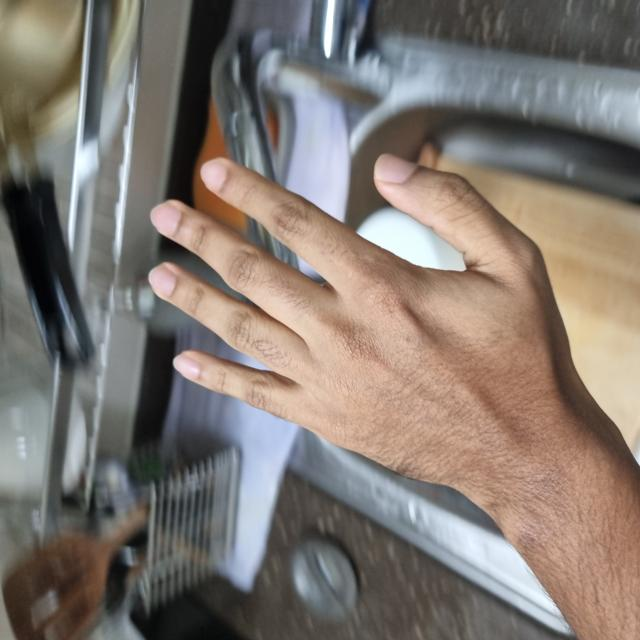Paper: (137, 152, 488, 564)
